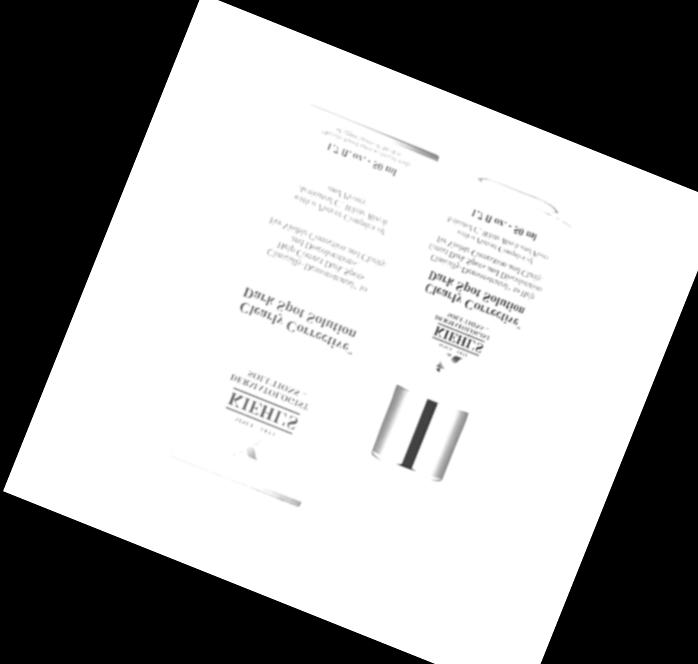cosmetic: (328, 179, 570, 554)
